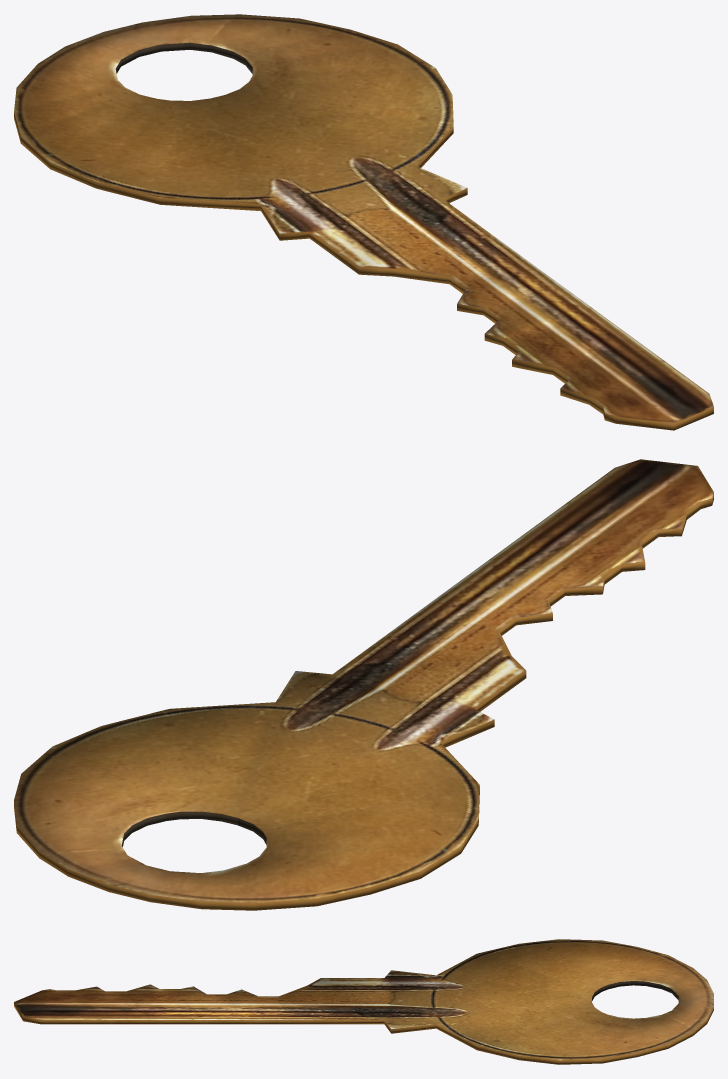
Rendered from key-textured.fbx.
3 views of the same model, one above another, from view 1: azimuth 30°, elevation 25°; view 2: azimuth 150°, elevation 25°; view 3: azimuth 270°, elevation 25° (orthographic). The views are drawn at different scales.
Visible parts, largest first — view 1: key; view 2: key; view 3: key.
Boxes of the visible parts, <box> form: key: <box>14,14,713,430</box>; key: <box>14,459,713,910</box>; key: <box>14,939,713,1064</box>.
Bounding box in the file's own units: 4.7 × 0.0824 × 11.47.
Materials: 1 (1 with a texture image).
